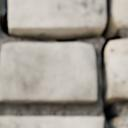brick: (0, 43, 95, 103), (9, 0, 105, 31), (107, 40, 127, 100), (0, 118, 103, 127), (113, 0, 127, 27), (117, 117, 127, 127)
crack: (0, 0, 126, 127)
